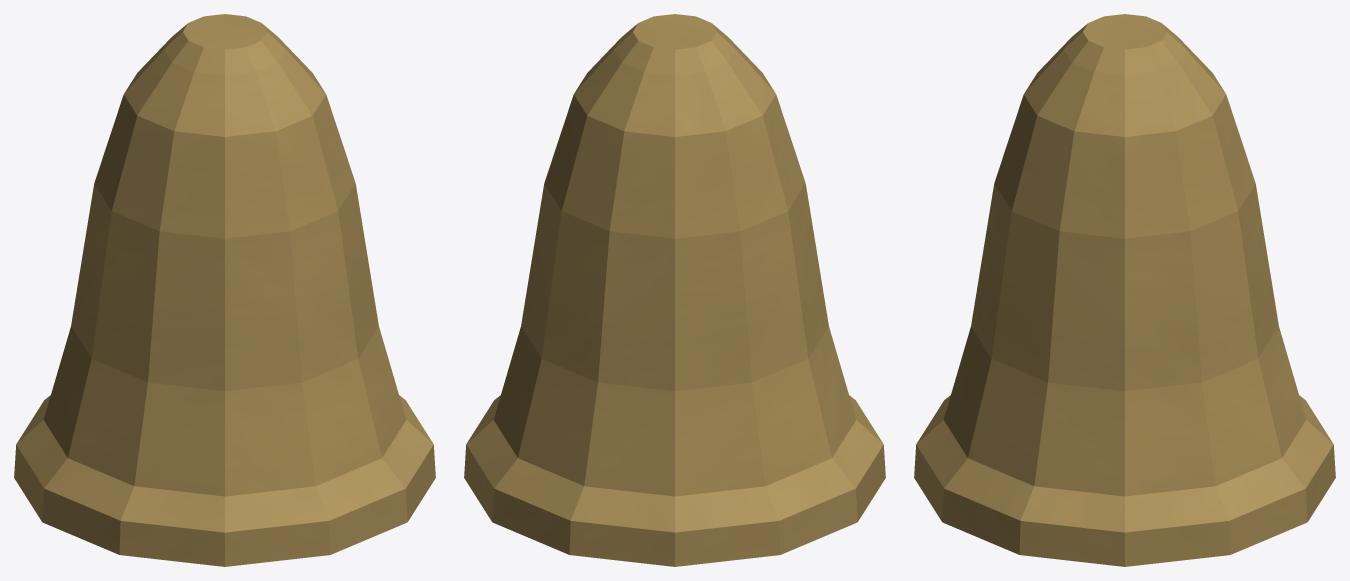
Rendered from WarrensC_WVC019_HighLandmarkBell_Mars_SM.fbx.
3 renders of one model, left to right at view 1: azimuth 30°, elevation 25°; view 2: azimuth 150°, elevation 25°; view 3: azimuth 270°, elevation 25°, orthographic.
Parts seen in each view (by area): view 1: WarrensC_WVC019_HighLandmarkBell_Mars_SM.001; view 2: WarrensC_WVC019_HighLandmarkBell_Mars_SM.001; view 3: WarrensC_WVC019_HighLandmarkBell_Mars_SM.001.
Part boxes in pixels (bbox=[...]): WarrensC_WVC019_HighLandmarkBell_Mars_SM.001: bbox=[14, 14, 435, 566]; WarrensC_WVC019_HighLandmarkBell_Mars_SM.001: bbox=[464, 14, 885, 566]; WarrensC_WVC019_HighLandmarkBell_Mars_SM.001: bbox=[914, 14, 1335, 566].
Size of the model in its own units: 240 by 240 by 280.
